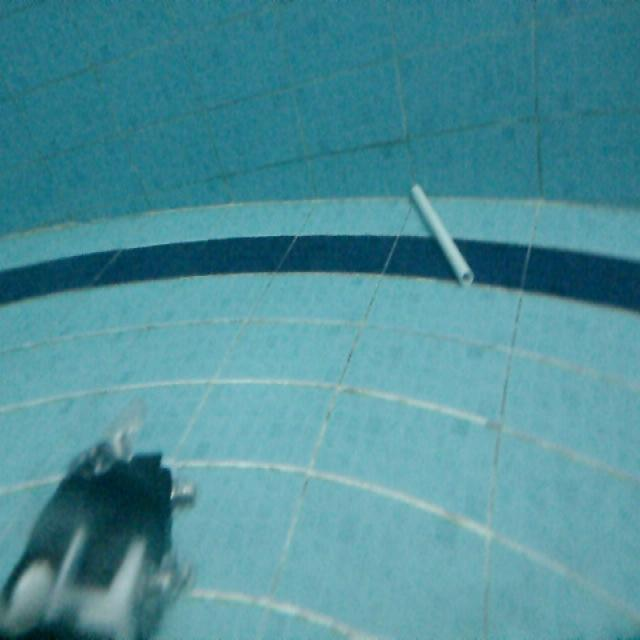Cube: (406, 178, 477, 290)
